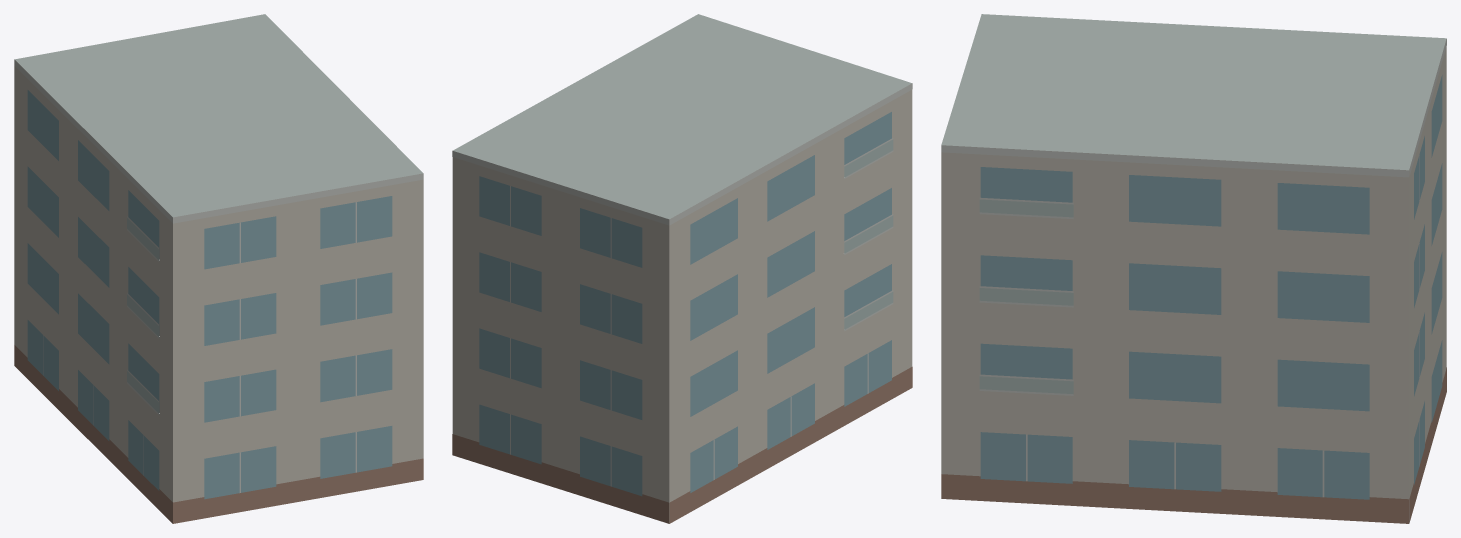
The model's file is survey-upis-32820845.glb.
3 renders of one model, left to right at view 1: azimuth 30°, elevation 25°; view 2: azimuth 150°, elevation 25°; view 3: azimuth 270°, elevation 25°, orthographic. The views are drawn at different scales.
Visible parts, largest first — view 1: survey-upis-32820845.tmp; view 2: survey-upis-32820845.tmp; view 3: survey-upis-32820845.tmp.
Boxes of the visible parts, x1,y1,x2,y2 form: survey-upis-32820845.tmp: [14, 14, 423, 523]; survey-upis-32820845.tmp: [452, 14, 912, 523]; survey-upis-32820845.tmp: [941, 14, 1446, 523].
Bounding box in the file's own units: 11.38 × 12 × 15.56.
